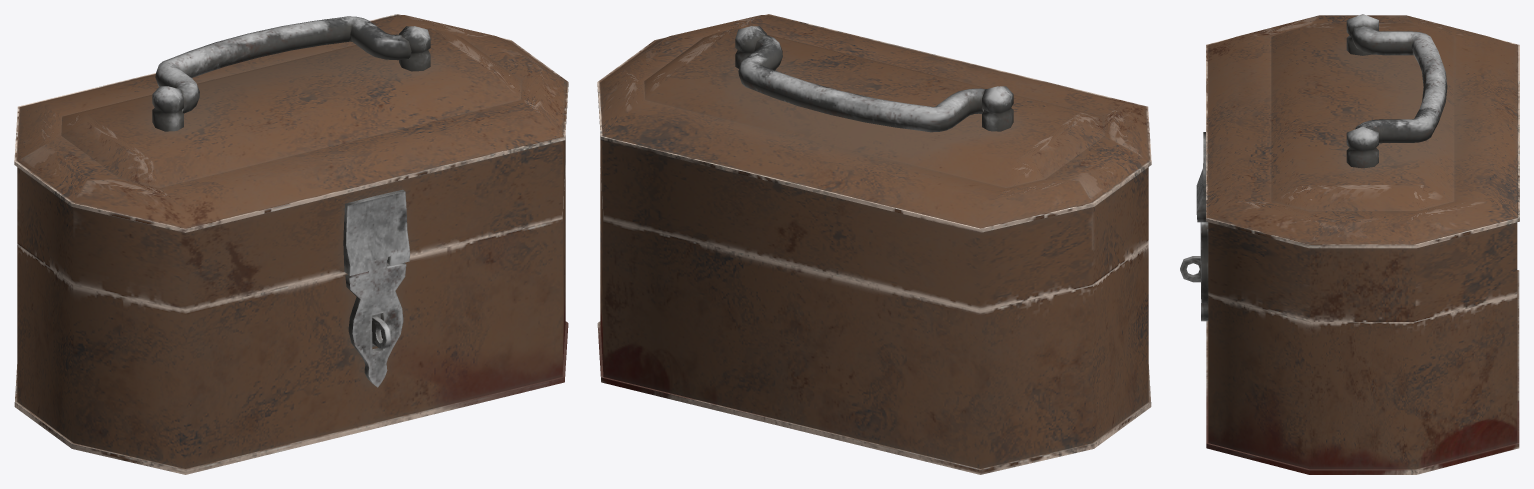
Rendered from SecreteBoxV2.fbx.
3 renders of one model, left to right at view 1: azimuth 30°, elevation 25°; view 2: azimuth 150°, elevation 25°; view 3: azimuth 270°, elevation 25°, orthographic. The views are drawn at different scales.
Parts seen in each view (by area): view 1: Cylinder.001, Cylinder, Cylinder.003; view 2: Cylinder.001, Cylinder; view 3: Cylinder.001, Cylinder, Cylinder.003.
Boxes of the visible parts, x1,y1,x2,y2 form: Cylinder.001: (14,14,568,311); Cylinder: (14,167,568,474); Cylinder.003: (345,257,406,387); Cylinder.001: (597,14,1151,311); Cylinder: (597,167,1151,474); Cylinder.001: (1196,14,1519,321); Cylinder: (1180,256,1519,474); Cylinder.003: (1200,222,1208,321).
Bounding box in the file's own units: 27.12 × 16.51 × 17.15.
